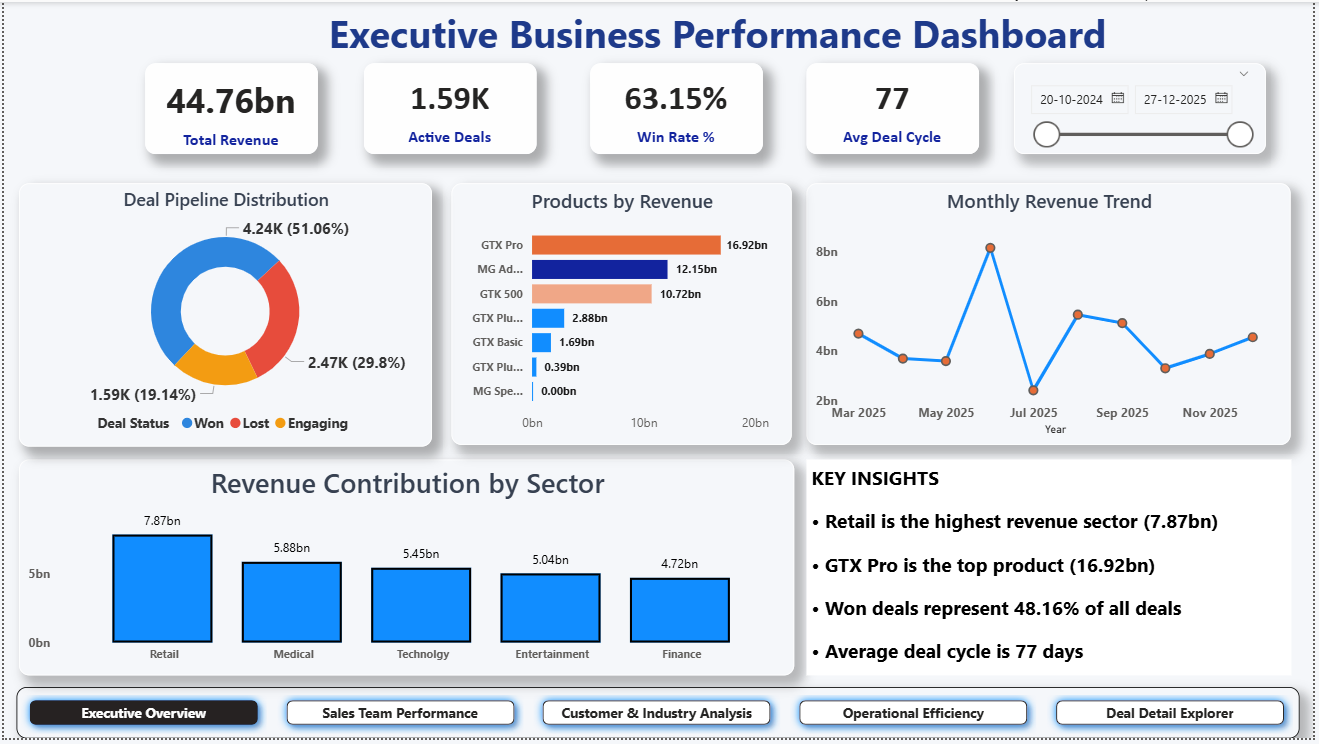

The page's visual inventory and layout, read from the dashboard file:
{"tool":"powerbi","page":{"name":"Executive Overview","canvas":[1280,720],"ordinal":0},"visuals":[{"type":"cardVisual","fields":{"Data":["sales_pipeline.Total Revenue"]},"box":[138.8,60,168.8,88.8],"z":0},{"type":"cardVisual","fields":{"Data":["sales_pipeline.Avg Deal Cycle"]},"box":[785,60,168.8,88.8],"z":1000},{"type":"cardVisual","fields":{"Data":["sales_pipeline.Win Rate %"]},"box":[573.8,60,168.8,88.8],"z":2000},{"type":"cardVisual","fields":{"Data":["sales_pipeline.Active Deals"]},"box":[352.5,60,168.8,88.8],"z":3000},{"type":"columnChart","title":"Revenue Contribution by Sector","fields":{"Category":["accounts.Sector"],"Y":["sales_pipeline.Total Revenue"]},"box":[15,447.5,758.8,211.2],"z":4000},{"type":"donutChart","title":"Deal Pipeline Distribution","fields":{"Category":["sales_pipeline.Deal Status "],"Y":["Count(sales_pipeline.ID)"]},"box":[15,177.5,403.8,257.5],"z":5000},{"type":"lineChart","title":"Monthly Revenue Trend","fields":{"Category":["sales_pipeline.Close date .Variation.Date Hierarchy.Year","sales_pipeline.Close date .Variation.Date Hierarchy.Month"],"Y":["sales_pipeline.Total Revenue"]},"box":[785,177.5,473.8,256.2],"z":6000},{"type":"barChart","title":"Products by Revenue","fields":{"Category":["sales_pipeline.Product"],"Y":["Sum(sales_pipeline.Total Amount)"]},"box":[437.5,177.5,332.5,256.2],"z":7000},{"type":"pageNavigator","box":[12.5,670,1255,50],"z":8000},{"type":"textbox","box":[307.4,0,782.2,60.4],"z":9000},{"type":"slicer","fields":{"Values":["sales_pipeline.Start Date"]},"box":[987.5,60,246.2,88.8],"z":10000},{"type":"textbox","box":[785,448,474,211],"z":10001}]}

Visuals, with their boxes in screenshot pixels (x1, y1, x2, y2), scaled from the page's 1280x720 canvas onto the 1319x744 screenshot:
cardVisual - sales_pipeline.Total Revenue: 143 62 317 154
cardVisual - sales_pipeline.Avg Deal Cycle: 809 62 983 154
cardVisual - sales_pipeline.Win Rate %: 591 62 765 154
cardVisual - sales_pipeline.Active Deals: 363 62 537 154
"Revenue Contribution by Sector" columnChart: 15 462 797 681
"Deal Pipeline Distribution" donutChart: 15 183 432 450
"Monthly Revenue Trend" lineChart: 809 183 1297 448
"Products by Revenue" barChart: 451 183 793 448
pageNavigator: 13 692 1306 743
textbox: 317 0 1123 62
slicer - sales_pipeline.Start Date: 1018 62 1271 154
textbox: 809 463 1297 681
